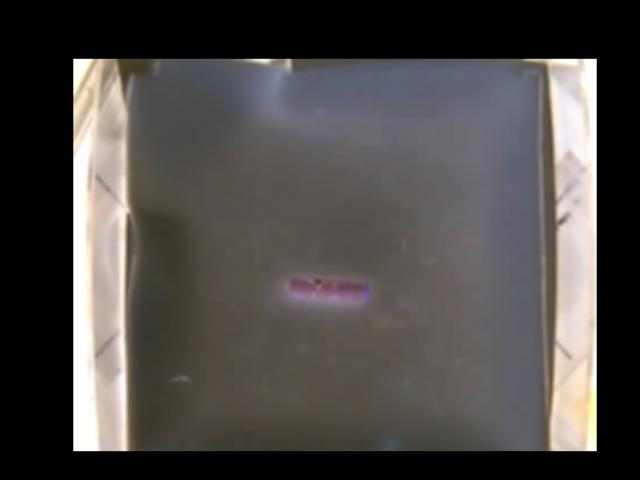Battery: (289, 275, 372, 301)
